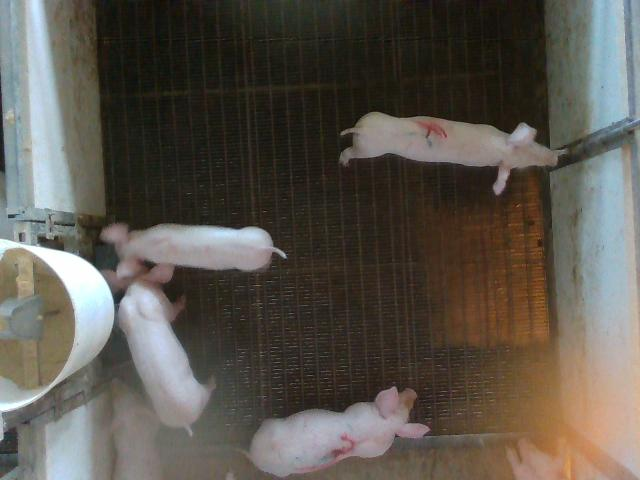pig-4: (339, 112, 559, 194), (246, 386, 429, 477)
